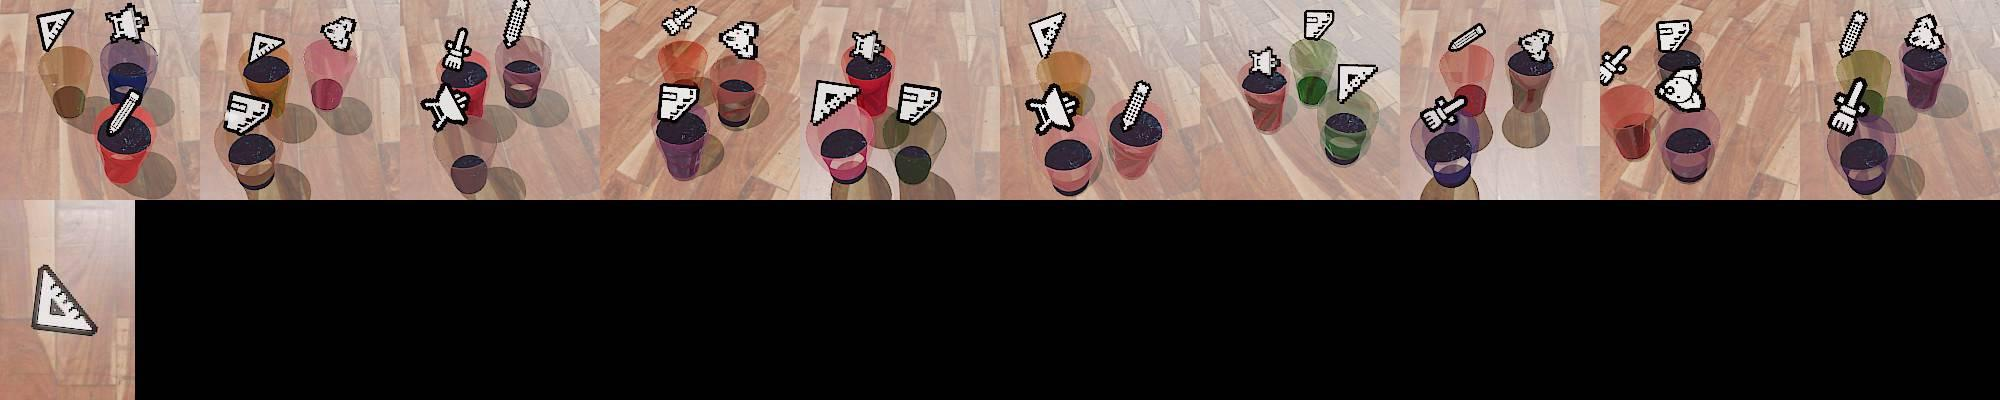icon: (31, 264, 101, 338), (1026, 79, 1080, 134), (422, 80, 472, 130), (1656, 64, 1707, 112), (810, 78, 861, 126), (1827, 76, 1869, 135), (222, 90, 273, 136), (897, 82, 943, 125), (1334, 61, 1379, 104), (1420, 93, 1467, 134), (657, 80, 700, 124), (106, 3, 151, 45), (1028, 11, 1066, 60), (36, 9, 75, 55), (1117, 79, 1151, 132), (718, 19, 760, 61), (1906, 13, 1946, 54), (107, 90, 142, 135), (1838, 10, 1869, 59), (501, 0, 532, 48), (1599, 43, 1633, 88), (246, 31, 287, 66), (319, 15, 357, 52), (1656, 19, 1693, 56), (441, 25, 471, 71), (1518, 28, 1554, 64), (848, 28, 884, 64), (661, 5, 699, 38), (1448, 23, 1486, 54), (1246, 46, 1281, 79), (1302, 9, 1334, 42)
